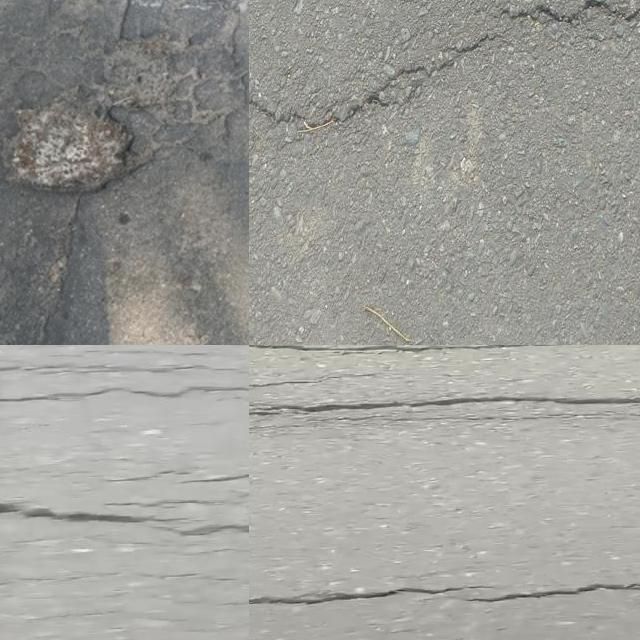Lubang: (0, 89, 147, 200)
Melintang: (249, 0, 640, 148), (249, 573, 640, 618), (249, 387, 640, 427), (0, 498, 249, 544), (0, 378, 249, 422), (275, 345, 640, 363)
